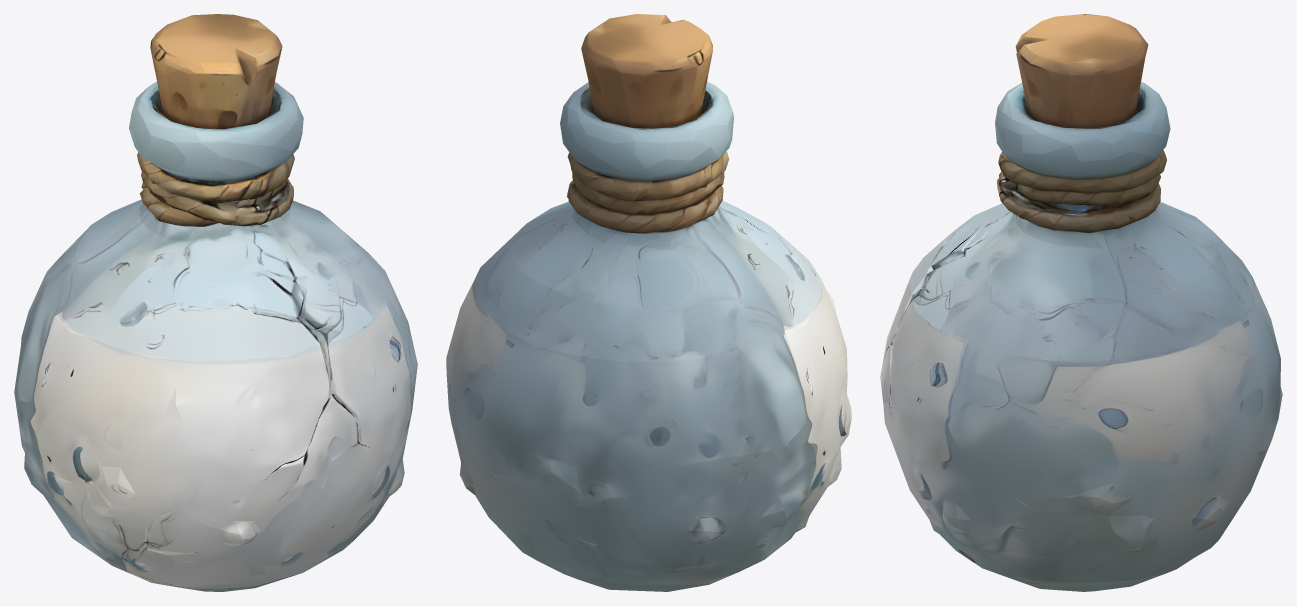
File: santan.glb
The picture shows the model from 3 angles, left to right: view 1: azimuth 30°, elevation 25°; view 2: azimuth 150°, elevation 25°; view 3: azimuth 270°, elevation 25°; orthographic projection.
Parts seen in each view (by area): view 1: model; view 2: model; view 3: model.
Part boxes in pixels (<box>): model: <box>14,14,417,591</box>; model: <box>446,14,851,591</box>; model: <box>880,14,1282,591</box>.
Size of the model in its own units: 1.31 by 1.88 by 1.3.
1 material, 1 textured.
